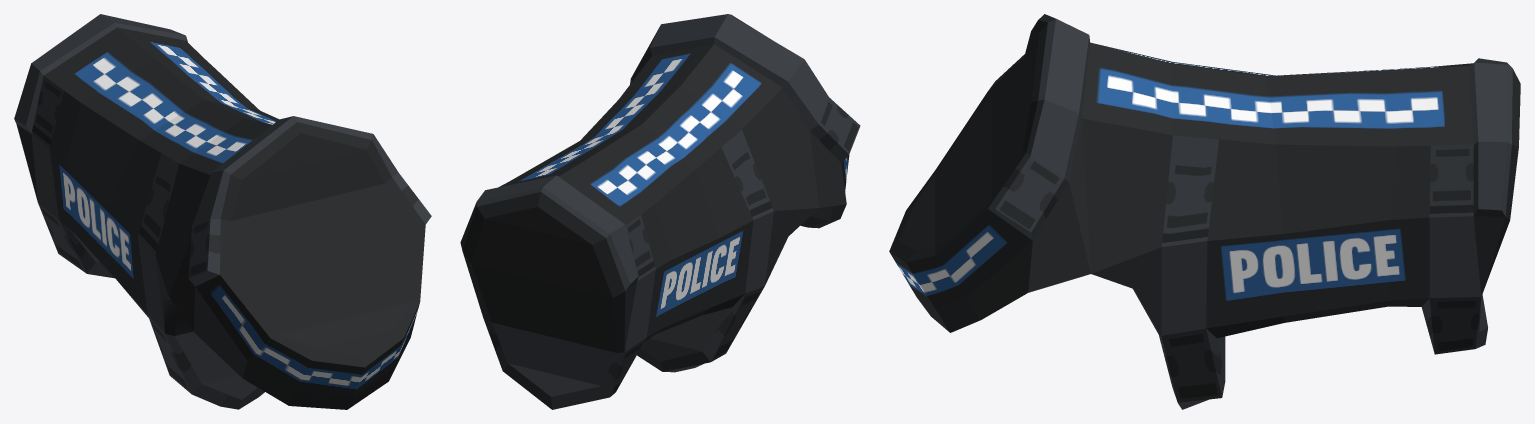
The model's file is SK_Chr_Attach_Vest_Police_Large_01.fbx.
The picture shows the model from 3 angles, left to right: view 1: azimuth 30°, elevation 25°; view 2: azimuth 150°, elevation 25°; view 3: azimuth 270°, elevation 25°; orthographic projection. The views are drawn at different scales.
Parts seen in each view (by area): view 1: SK_Chr_Attach_Vest_Police_Large_01; view 2: SK_Chr_Attach_Vest_Police_Large_01; view 3: SK_Chr_Attach_Vest_Police_Large_01.
Boxes of the visible parts, <box> form: SK_Chr_Attach_Vest_Police_Large_01: <box>14,14,431,409</box>; SK_Chr_Attach_Vest_Police_Large_01: <box>460,14,860,409</box>; SK_Chr_Attach_Vest_Police_Large_01: <box>889,14,1520,409</box>.
Size of the model in its own units: 35.32 by 48.7 by 71.44.
